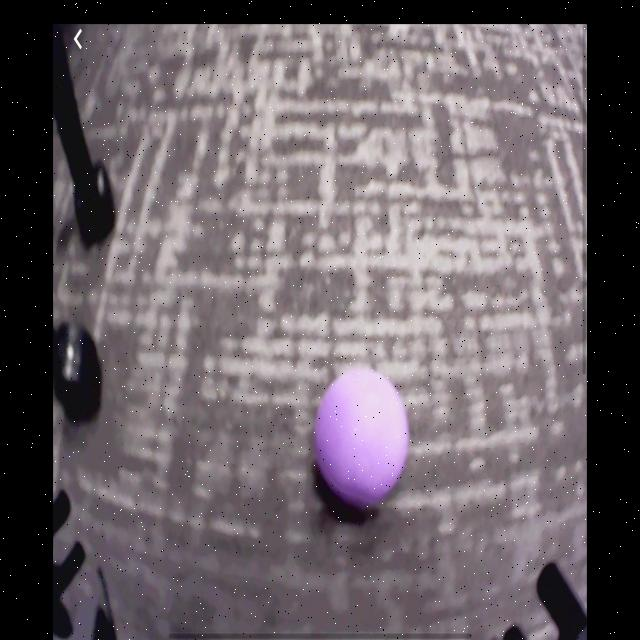ball: (315, 366, 410, 516)
